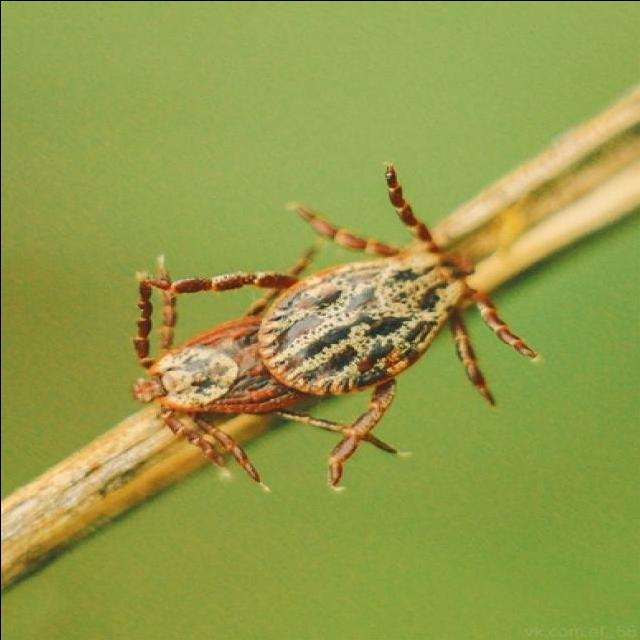Dermacentor Reticulatus-F: (132, 279, 396, 483)
Dermacentor Reticulatus-M: (167, 161, 536, 486)
